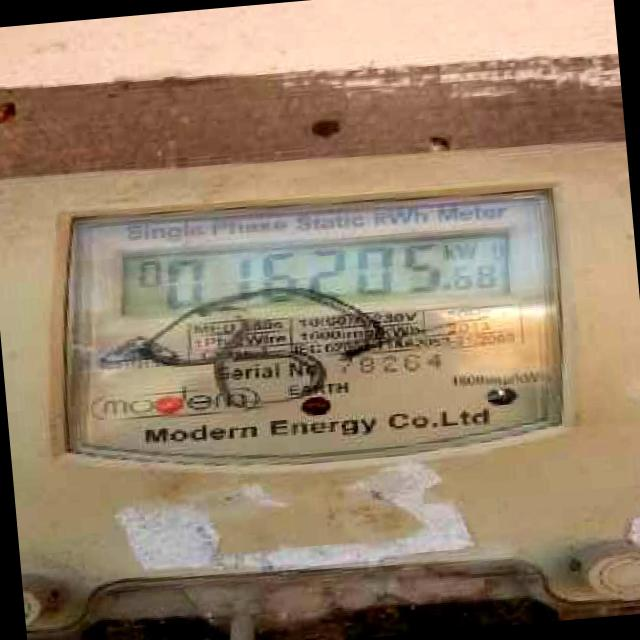LCD: (108, 210, 524, 340)
